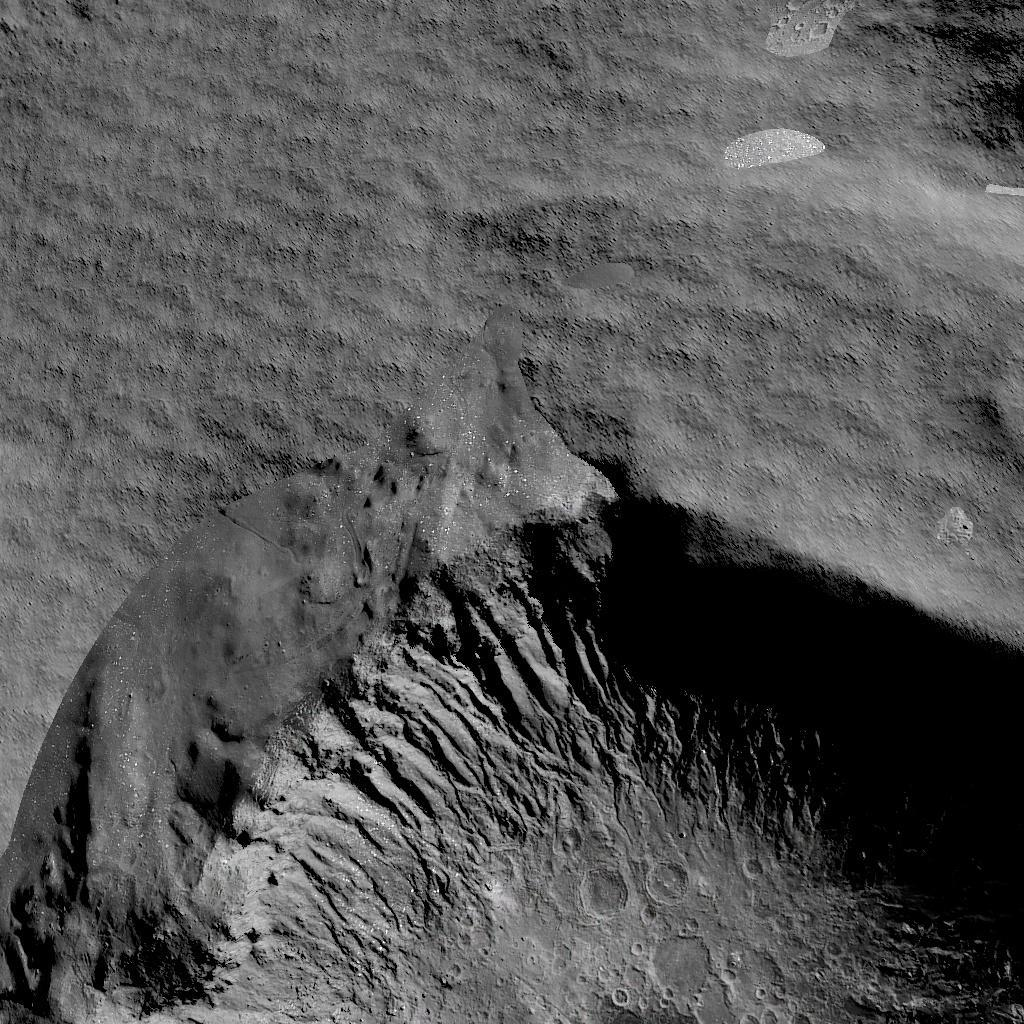Boulders: (2, 2, 114, 88)
Crater: (0, 419, 1024, 1024), (898, 0, 1021, 170)
Plan surface: (138, 0, 822, 368)
